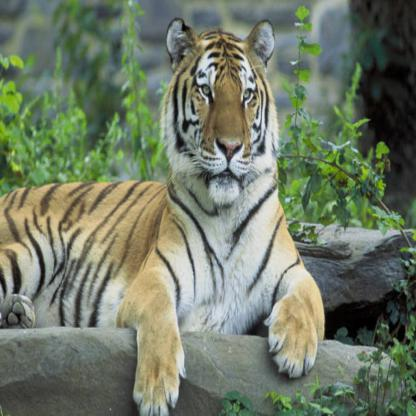tiger: (158, 15, 278, 221)
